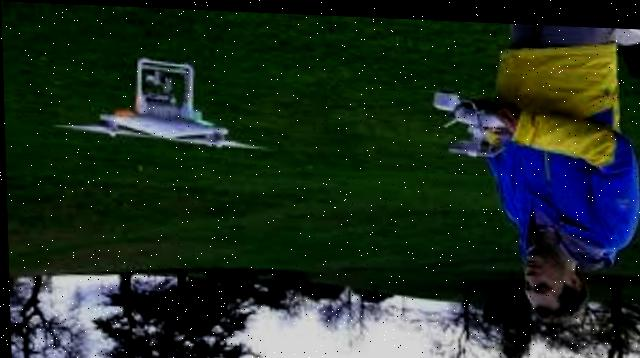drone: (51, 55, 259, 153)
